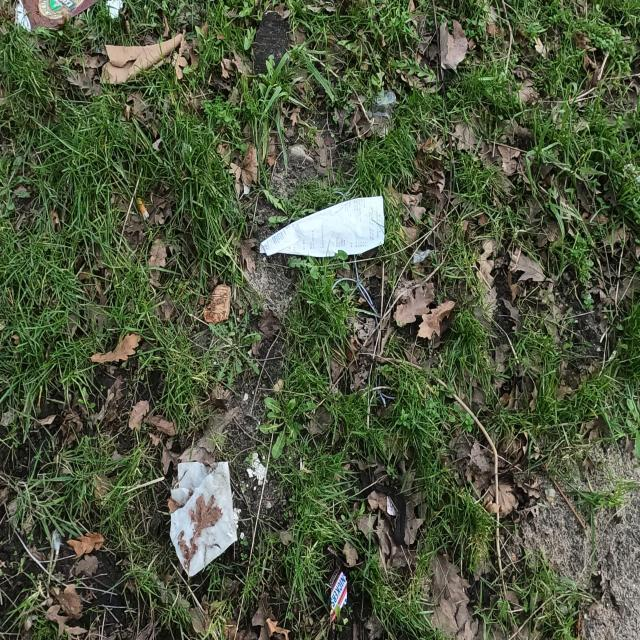Paper: (168, 458, 238, 578), (260, 195, 386, 258)
Plastic: (325, 554, 348, 626)
